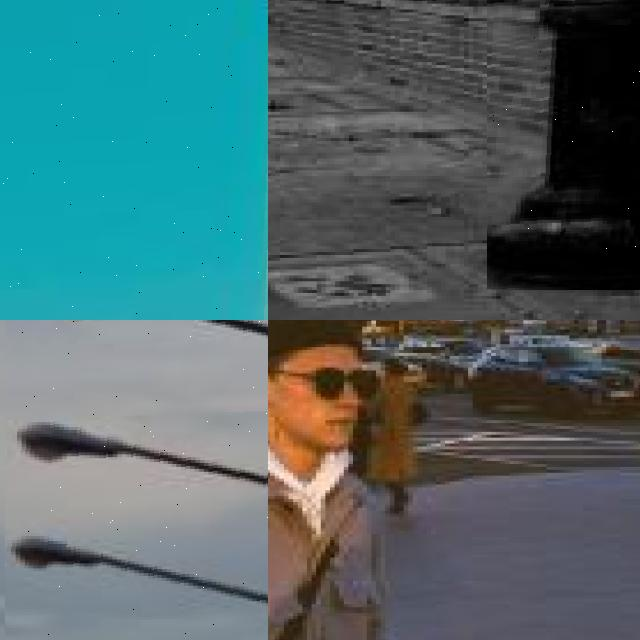street light: (0, 0, 268, 320), (5, 320, 268, 640), (46, 320, 268, 640), (37, 412, 268, 640), (487, 0, 640, 290), (37, 532, 268, 640)
